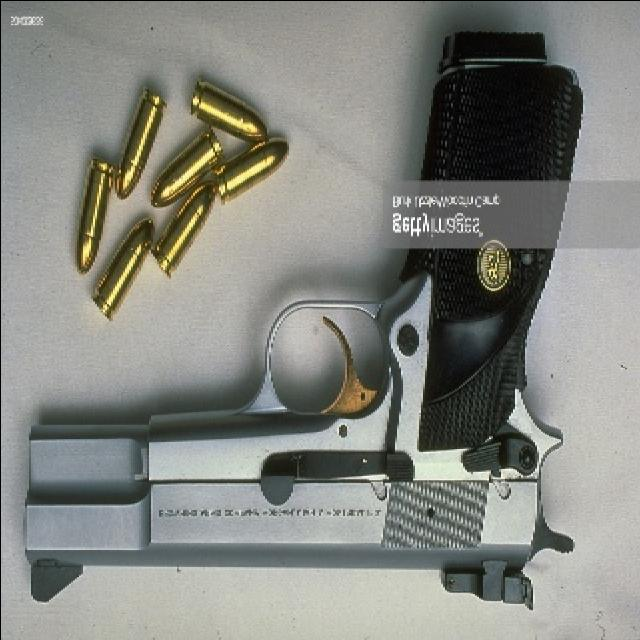handgun: (19, 63, 593, 607)
